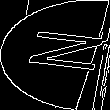N_E: (7, 31, 103, 79)
